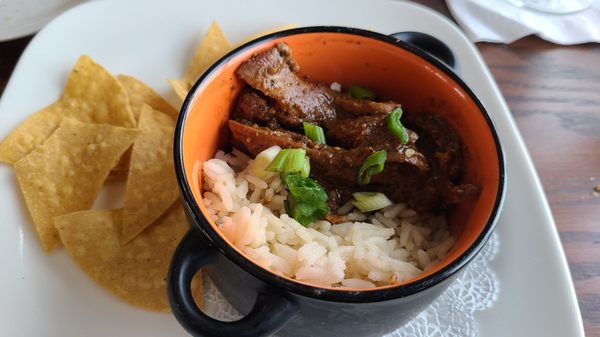curry: (283, 171, 330, 226)
sushi: (174, 29, 509, 306)
